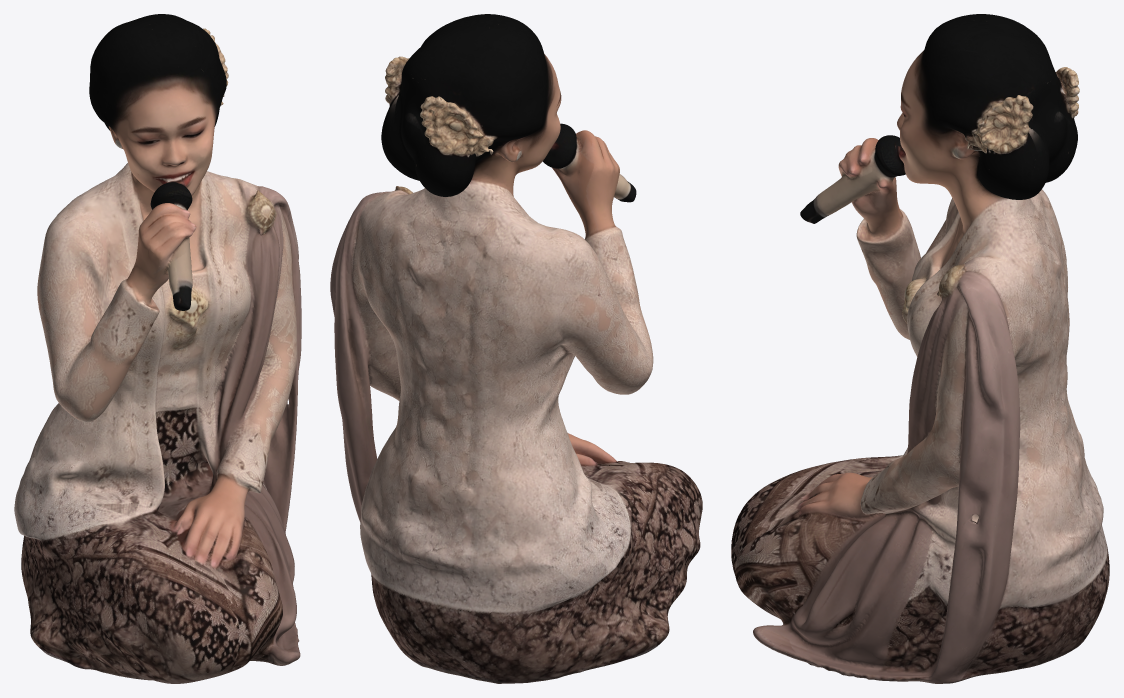
The model's file is sinden.glb.
3 views of the same model, side by side, from view 1: azimuth 30°, elevation 25°; view 2: azimuth 150°, elevation 25°; view 3: azimuth 270°, elevation 25° (orthographic). The views are drawn at different scales.
Parts seen in each view (by area): view 1: mesh_node; view 2: mesh_node; view 3: mesh_node.
Part boxes in pixels (x1,y1,x2,y2): mesh_node: [14, 14, 301, 683]; mesh_node: [330, 14, 702, 683]; mesh_node: [731, 14, 1109, 683].
Bounding box in the file's own units: 0.9798 × 1.88 × 1.05.
Materials: 1 (1 with a texture image).
